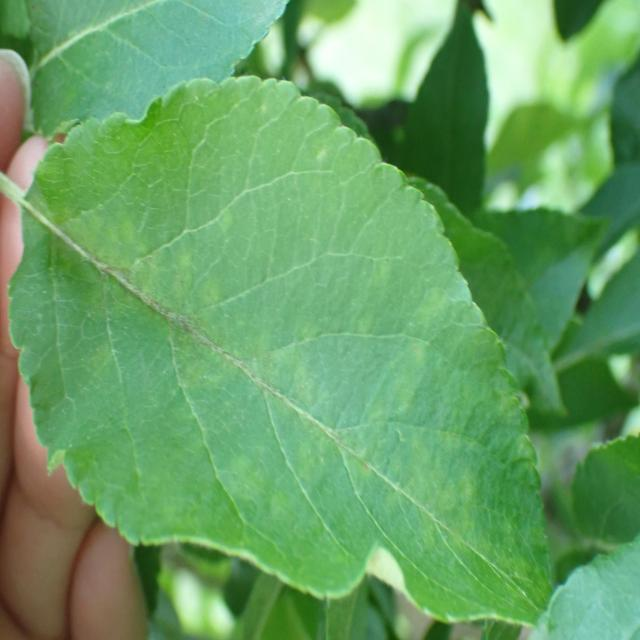scab: (44, 184, 424, 564)
